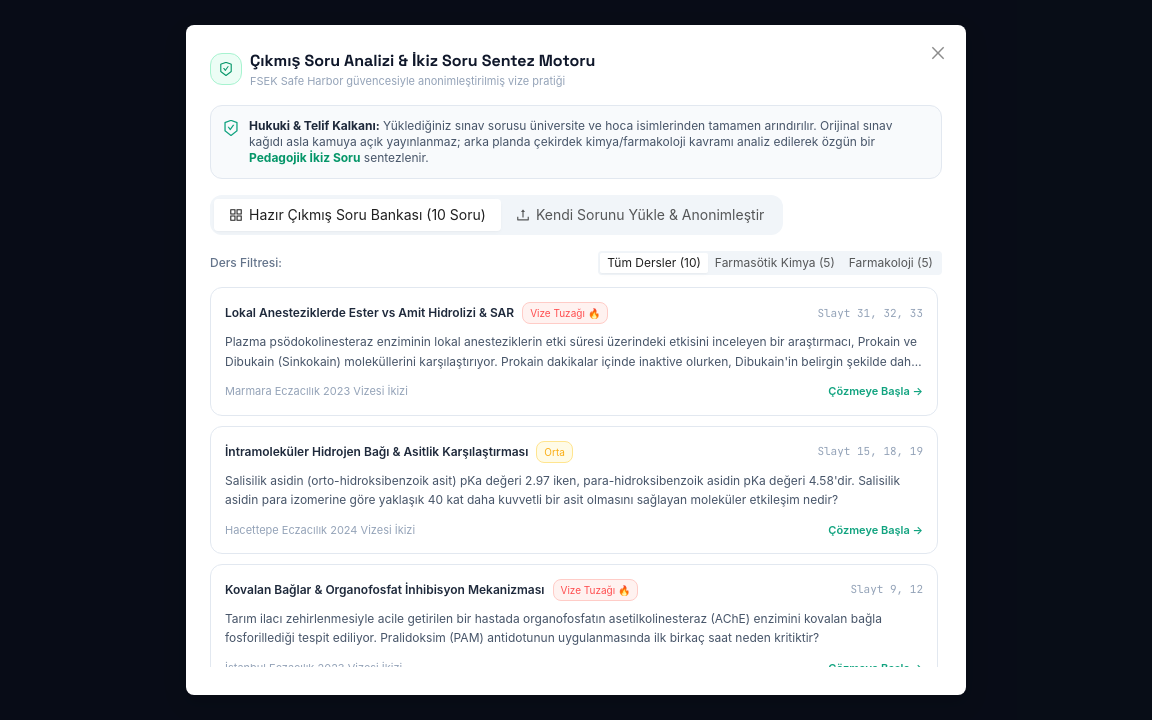
Test case: PastExamPracticeModal › renders curated question bank and lets student select a question to solve
expect the heading "Çıkmış Soru Analizi & İkiz Soru Sentez Motoru" is shown: met, box 250,49 -> 595,73
expect the text "Hukuki & Telif Kalkanı:" is shown: met, box 249,118 -> 380,133
Click on the first question to solve it
Click the text "Lokal Anesteziklerde Ester vs Amit Hidrolizi & SAR" at (370, 313), box 225,305 -> 514,321
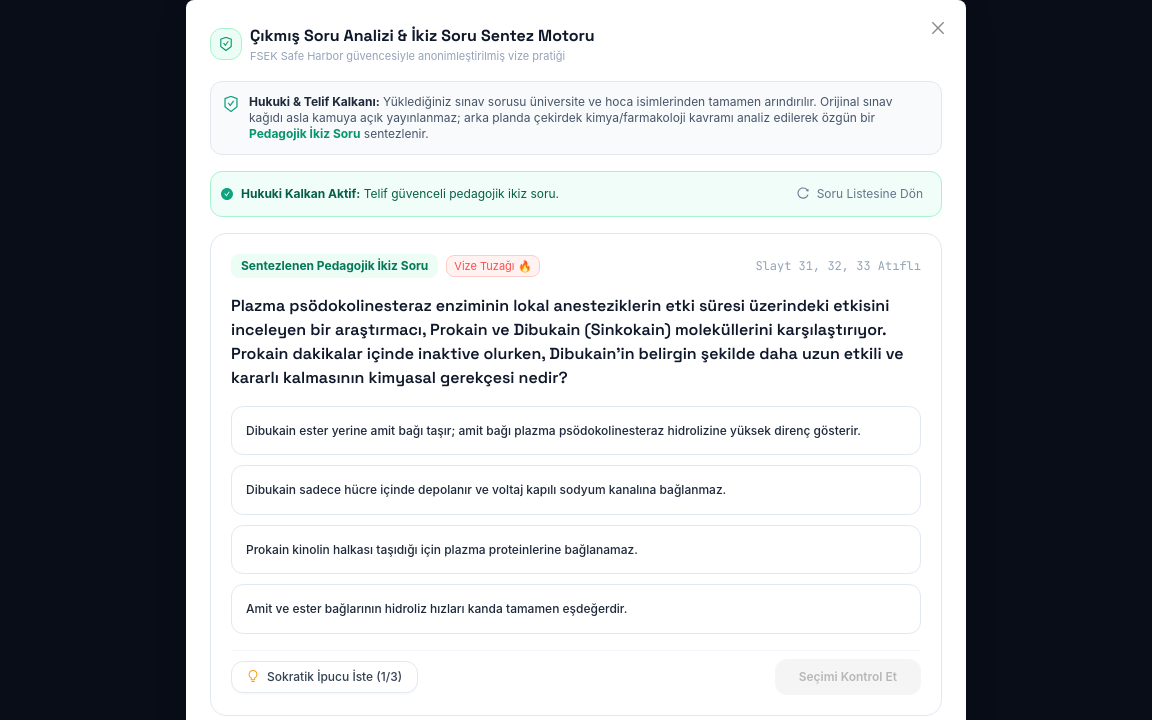
expect the text "Sentezlenen Pedagojik İkiz Soru" is shown: met, box 231,254 -> 438,278
expect the button "Sokratik İpucu İste (1/3)" is shown: met
Request Socratic hint
Click the button "Sokratik İpucu İste (1/3)" at (325, 676), box 231,660 -> 418,692
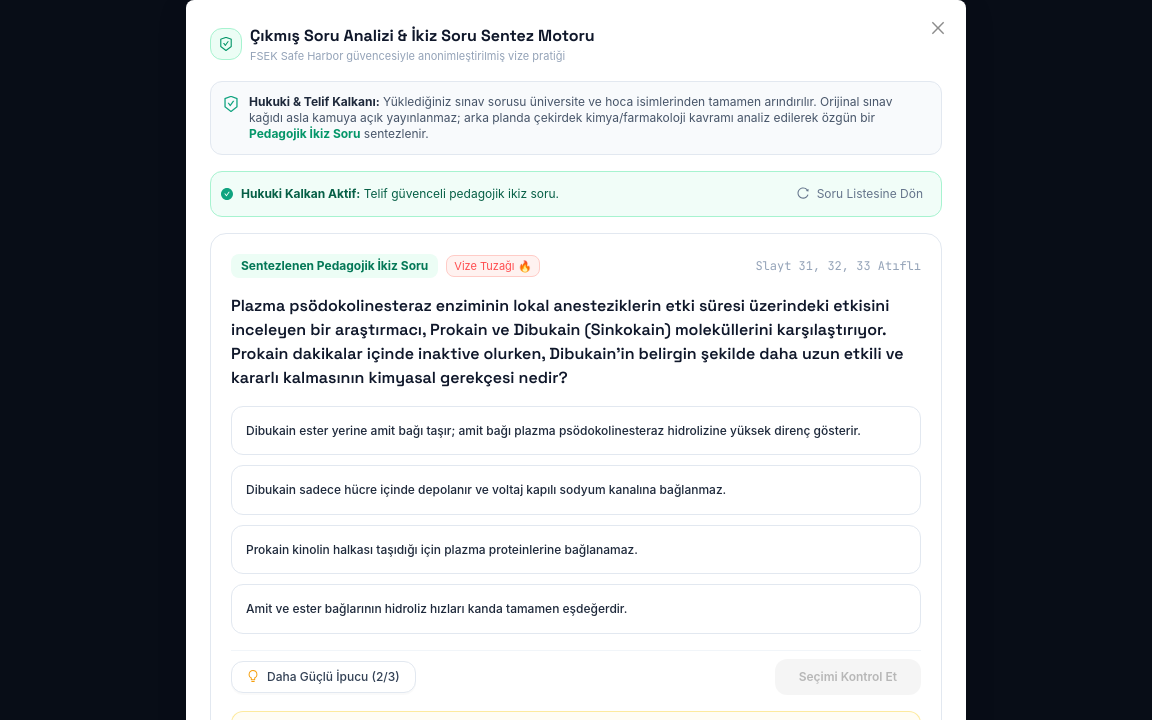
Select the correct option
Click the text "Dibukain ester yerine amit bağı taşır" at (554, 430), box 246,420 -> 861,440
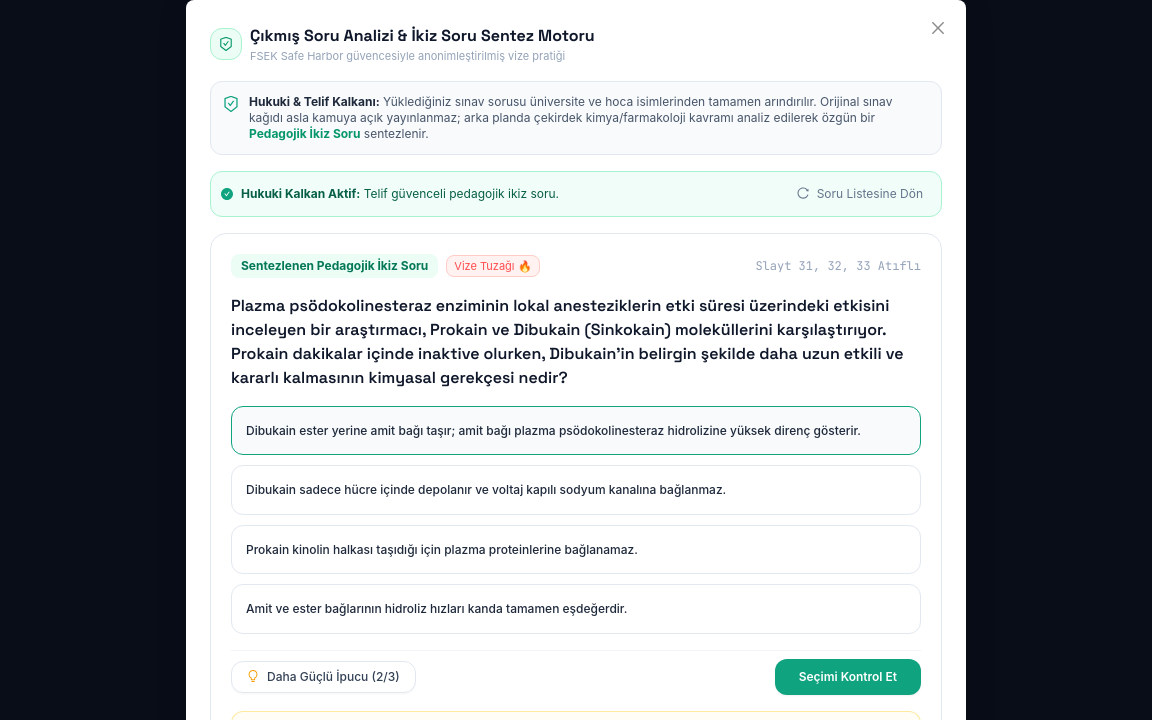
Click the button "Seçimi Kontrol Et" at (848, 676), box 775,658 -> 921,694
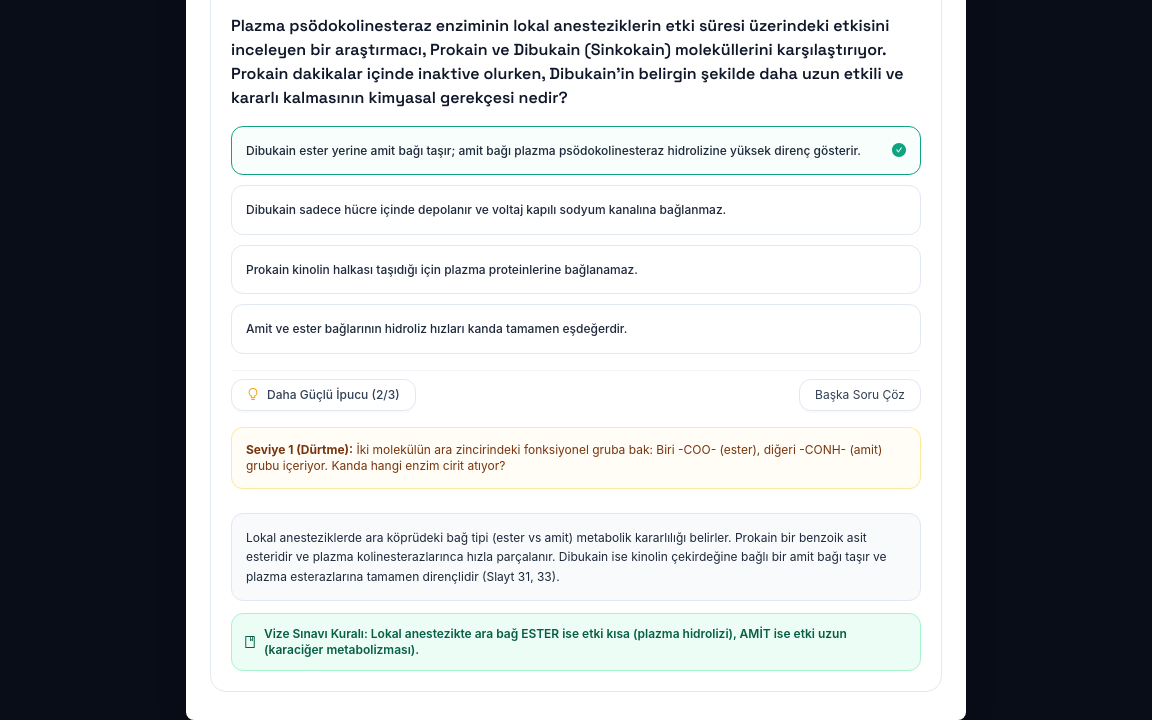
expect the text "Vize Sınavı Kuralı" is shown: met, box 264,626 -> 847,657
